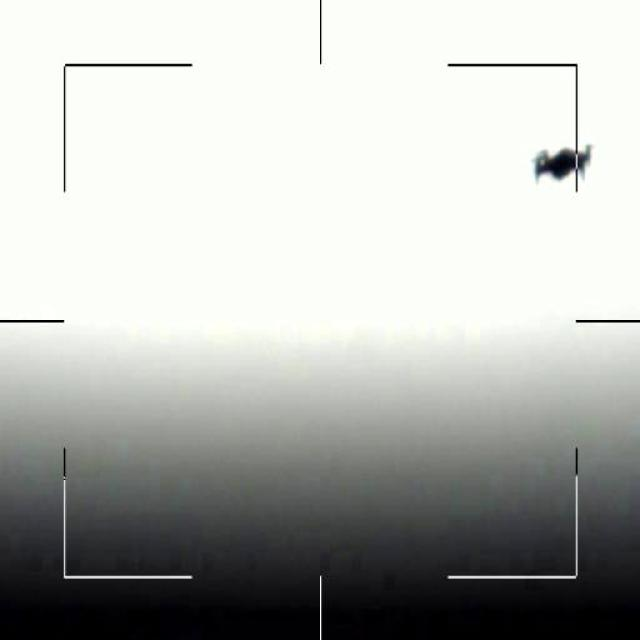bird: (526, 132, 598, 176)
